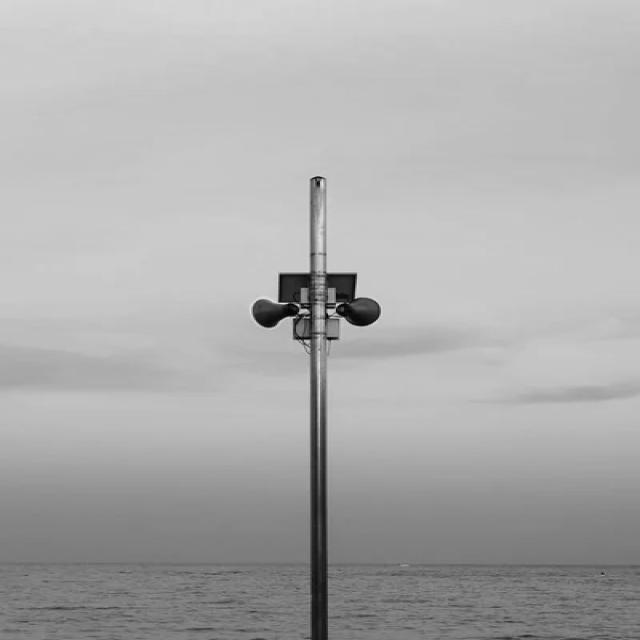Pole: (310, 177, 328, 640)
